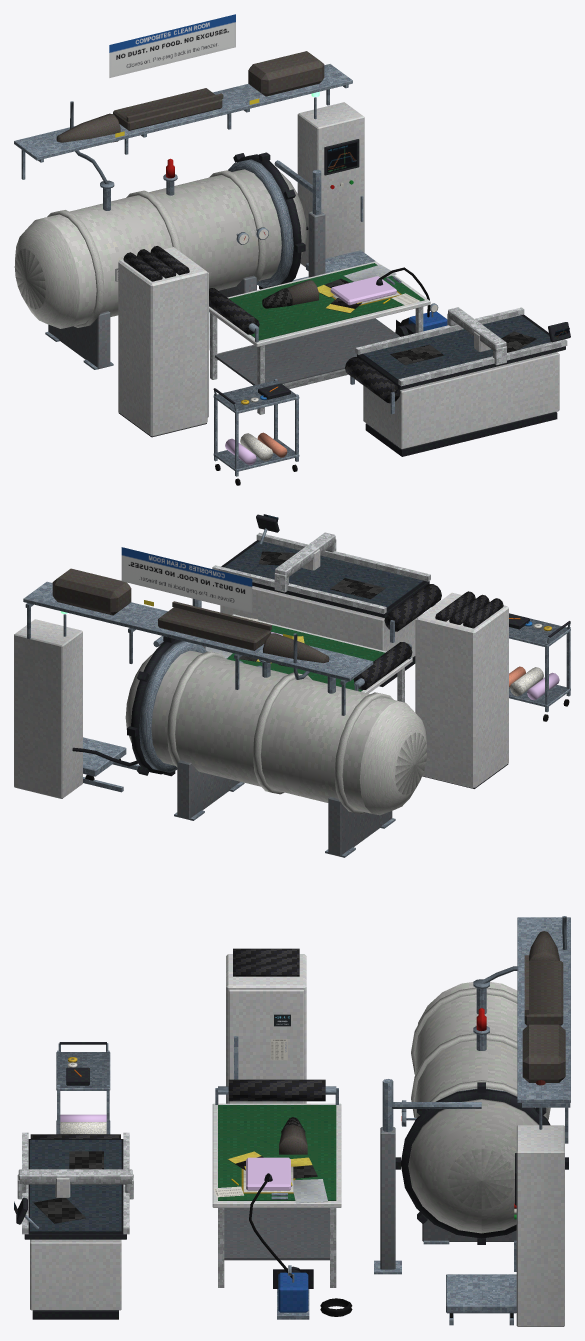
Rendered from station_fab2.glb.
3 renders of one model, top to bottom at view 1: azimuth 30°, elevation 25°; view 2: azimuth 150°, elevation 25°; view 3: azimuth 270°, elevation 25°, orthographic. The views are drawn at different scales.
Parts seen in each view (by area): view 1: F2_Ac_Shell, F2_Freezer, F2_Cut_Base, F2_Ctl_Cabinet, F2_Table_Shelf, F2_Ac_BackDome, F2_Shelf, F2_Table_Mat, F2_Sign, F2_Cut_Felt, F2_MouldPod, F2_Ac_Flange (+23 smaller); view 2: F2_Ac_Shell, F2_Freezer, F2_Ctl_Cabinet, F2_Ac_BackDome, F2_Cut_Base, F2_Shelf, F2_Sign, F2_Cut_Felt, F2_MouldPod, F2_MouldWing, F2_Ac_Flange, F2_Ac_Cradle1 (+24 smaller); view 3: F2_Ac_Door, F2_Ctl_Cabinet, F2_Ac_Shell, F2_Table_Mat, F2_Cut_Base, F2_Freezer_Door, F2_Cut_Felt, F2_Table_Shelf, F2_Shelf, F2_Ac_Cart, F2_Ac_LockRing, F2_MouldPod (+29 smaller).
Boxes of the visible parts, x1=… form: F2_Ac_Shell: x1=37, y1=169, x2=281, y2=327; F2_Freezer: x1=118, y1=247, x2=207, y2=436; F2_Cut_Base: x1=363, y1=352, x2=559, y2=449; F2_Ctl_Cabinet: x1=297, y1=102, x2=364, y2=267; F2_Table_Shelf: x1=215, y1=318, x2=400, y2=385; F2_Ac_BackDome: x1=14, y1=218, x2=79, y2=328; F2_Shelf: x1=14, y1=64, x2=352, y2=160; F2_Table_Mat: x1=229, y1=263, x2=424, y2=340; F2_Sign: x1=109, y1=14, x2=235, y2=77; F2_Cut_Felt: x1=363, y1=315, x2=550, y2=379; F2_MouldPod: x1=248, y1=51, x2=324, y2=96; F2_Ac_Flange: x1=228, y1=159, x2=293, y2=287; F2_Ac_Shell: x1=151, y1=650, x2=402, y2=813; F2_Freezer: x1=416, y1=592, x2=508, y2=788; F2_Ctl_Cabinet: x1=14, y1=619, x2=82, y2=798; F2_Ac_BackDome: x1=359, y1=701, x2=426, y2=815; F2_Cut_Base: x1=220, y1=586, x2=422, y2=657; F2_Shelf: x1=23, y1=581, x2=373, y2=681; F2_Sign: x1=121, y1=547, x2=252, y2=612; F2_Cut_Felt: x1=224, y1=541, x2=423, y2=607; F2_MouldPod: x1=52, y1=568, x2=131, y2=615; F2_MouldWing: x1=158, y1=607, x2=271, y2=650; F2_Ac_Flange: x1=139, y1=640, x2=206, y2=772; F2_Ac_Cradle1: x1=177, y1=760, x2=239, y2=819; F2_Ac_Door: x1=408, y1=1099, x2=538, y2=1233; F2_Ctl_Cabinet: x1=516, y1=1125, x2=564, y2=1326; F2_Ac_Shell: x1=415, y1=982, x2=548, y2=1120; F2_Table_Mat: x1=218, y1=1105, x2=336, y2=1200; F2_Cut_Base: x1=30, y1=1239, x2=121, y2=1310; F2_Freezer_Door: x1=228, y1=989, x2=303, y2=1103; F2_Cut_Felt: x1=30, y1=1140, x2=121, y2=1231; F2_Table_Shelf: x1=224, y1=1208, x2=329, y2=1260; F2_Shelf: x1=517, y1=917, x2=570, y2=1102; F2_Ac_Cart: x1=446, y1=1274, x2=516, y2=1313; F2_Ac_LockRing: x1=401, y1=1089, x2=550, y2=1238; F2_MouldPod: x1=522, y1=1024, x2=565, y2=1082.
Bounding box in the file's own units: 4.47 × 3.15 × 5.17.
Materials: 42 (36 with a texture image).
